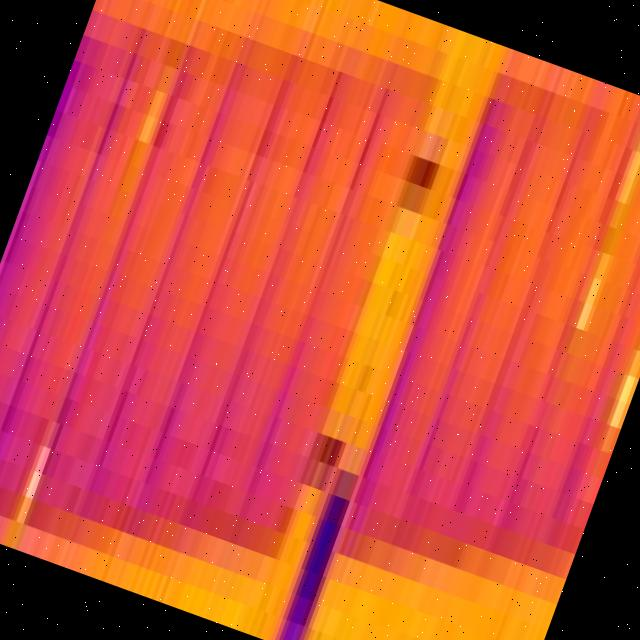Hotspot: (597, 349, 640, 453), (135, 64, 177, 144), (572, 252, 614, 332), (16, 446, 50, 524), (614, 125, 640, 205)
